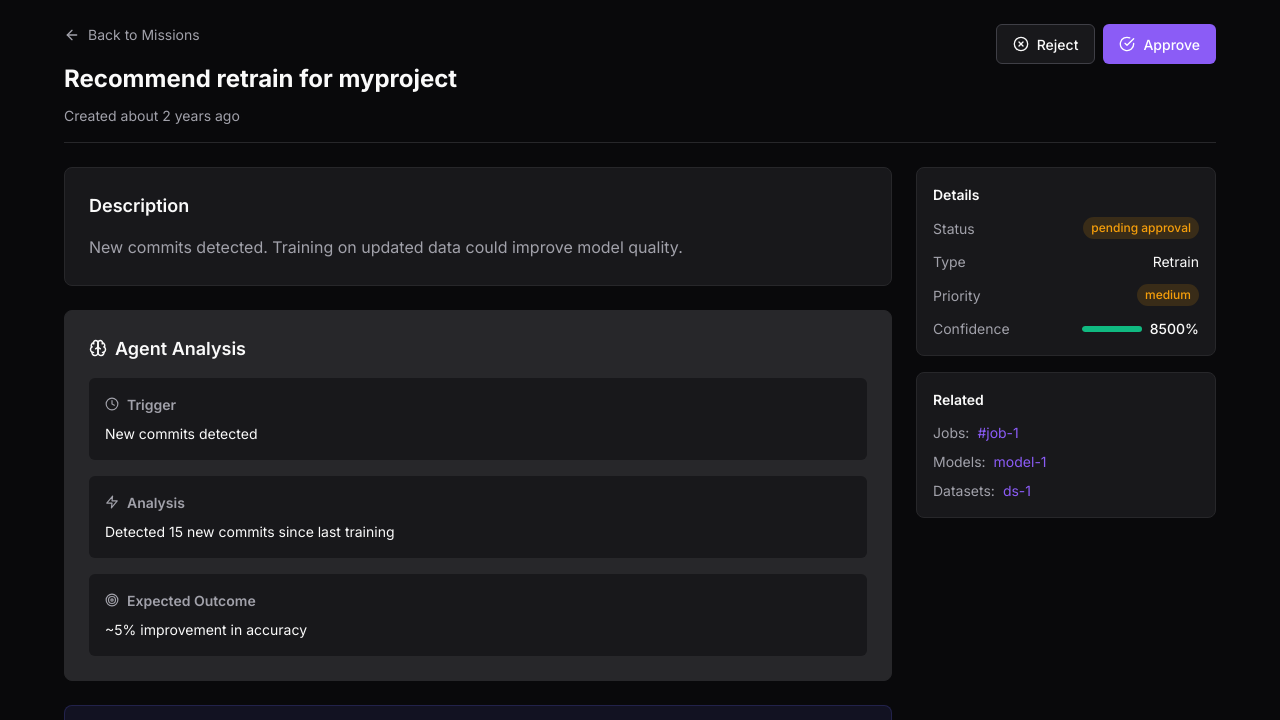
MissionDetailPage Integration › enables reject button when reason is provided
Click the button "Reject".
click(1046, 44)  # box 996,24 -> 1095,64
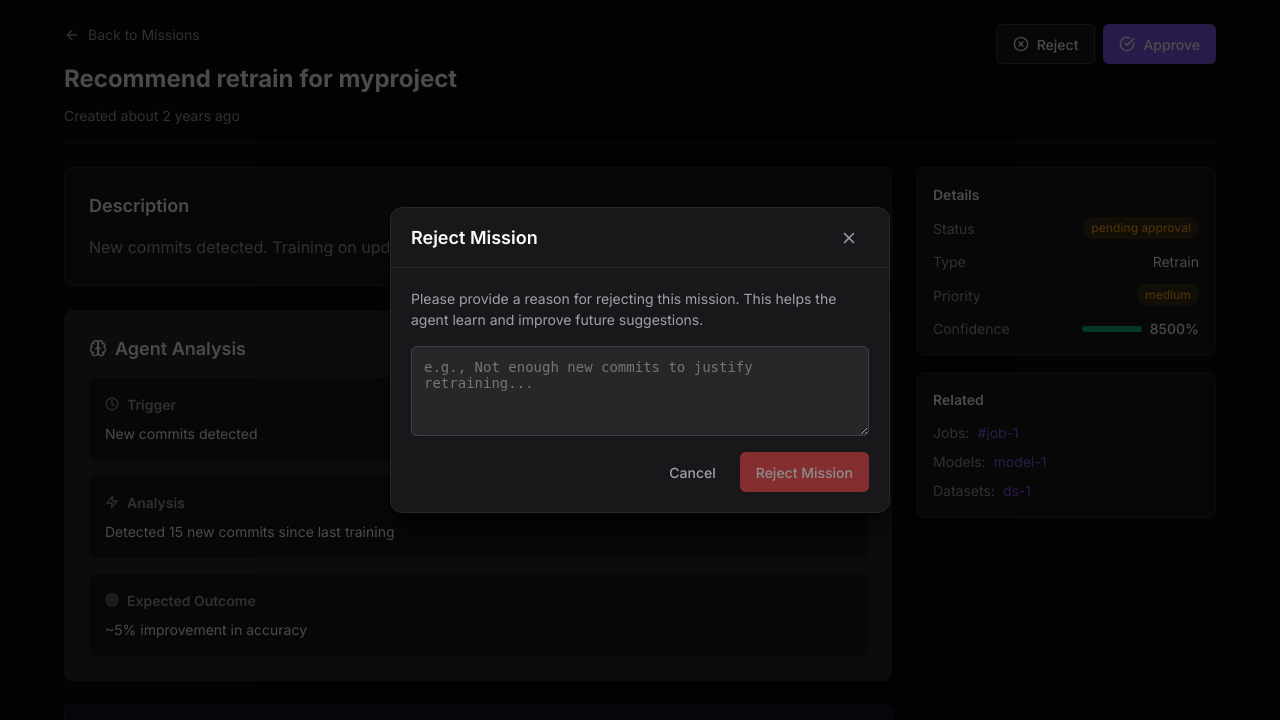
Expected: the text box with placeholder "e.g., Not enough new commits to justify retraining..." is shown
Type "Test rejection reason" into the text box with placeholder "e.g., Not enough new commits to justify retraining...".
click(640, 391); type("Test rejection reason")  # box 411,346 -> 869,436
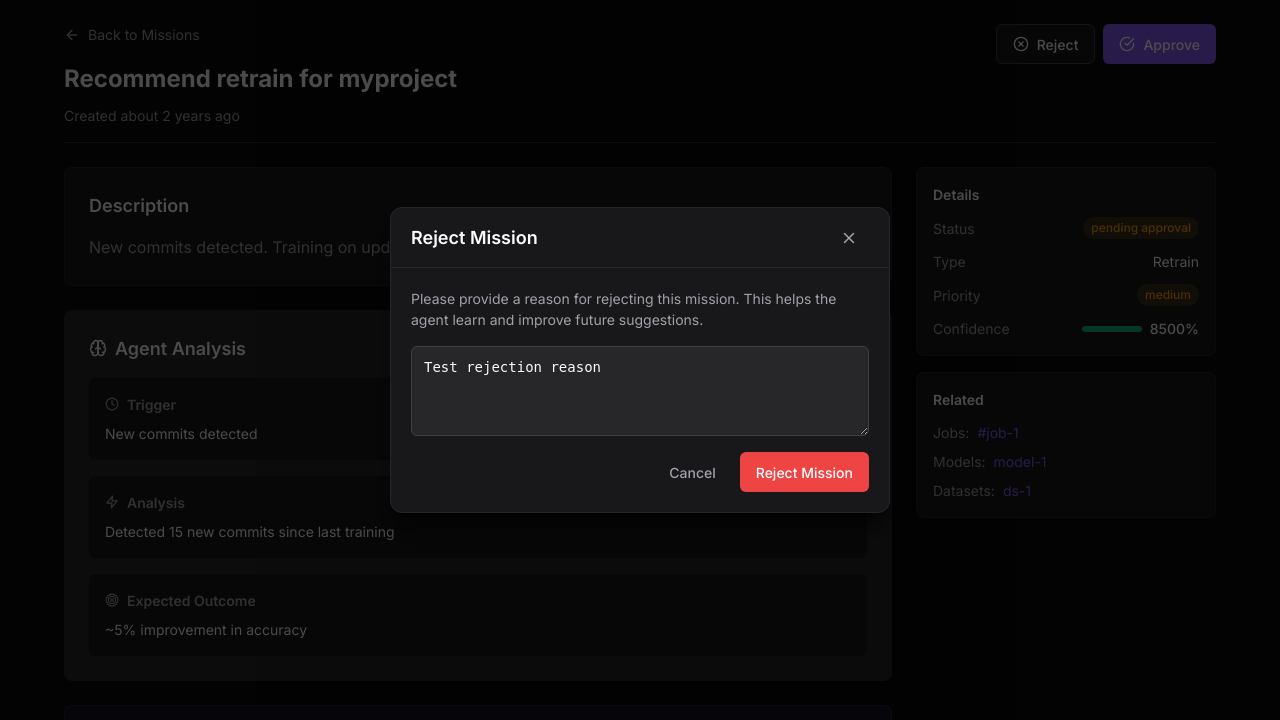
Expected: the button "Reject Mission" is enabled, 740,452 -> 869,492
